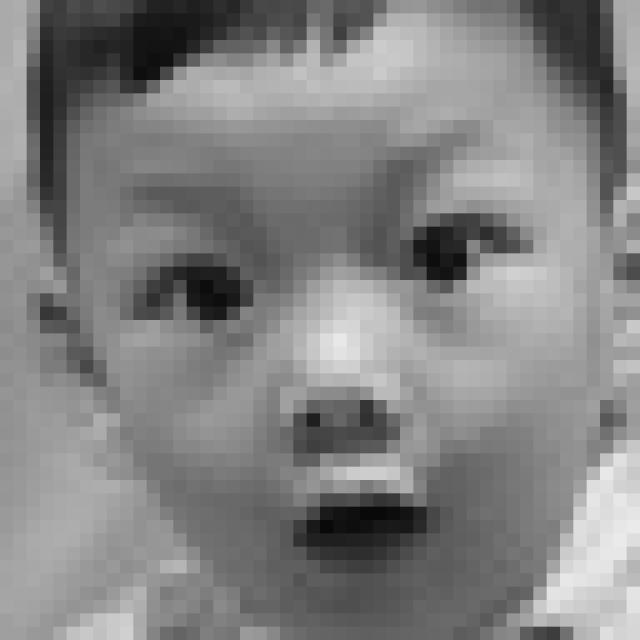surprise: (100, 115, 532, 581)
